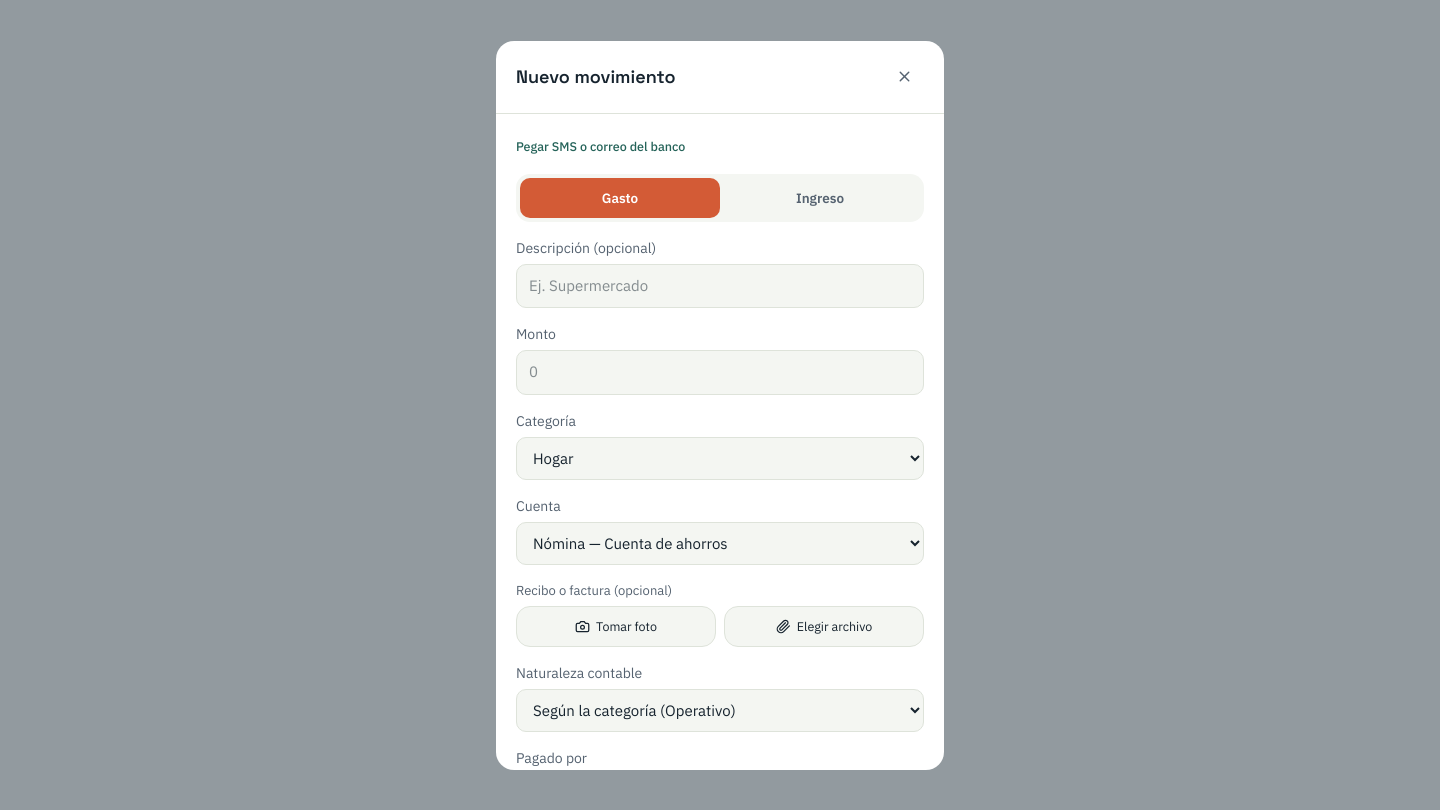
Test: gasto grande al registrar un movimiento › avisa (sin bloquear) cuando el monto llega al umbral
This screenshot has width=1440, height=810.
expect the text "llega al umbral" is not shown: met
Type "1500000" into the number field labelled "Monto". click: (720,372)
box: [516,350,924,394]
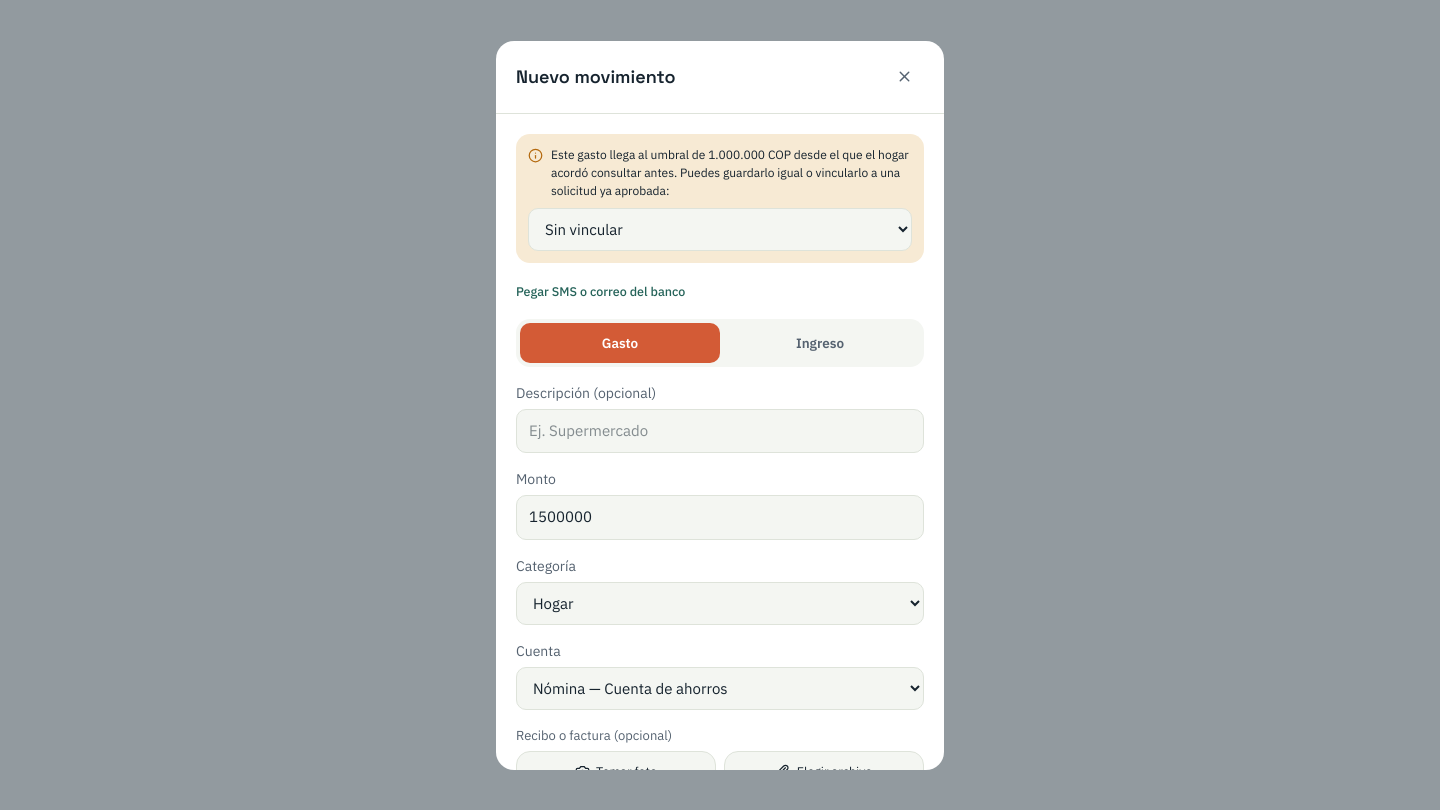
expect the text "llega al umbral" is shown: met, box [551,146,708,162]
